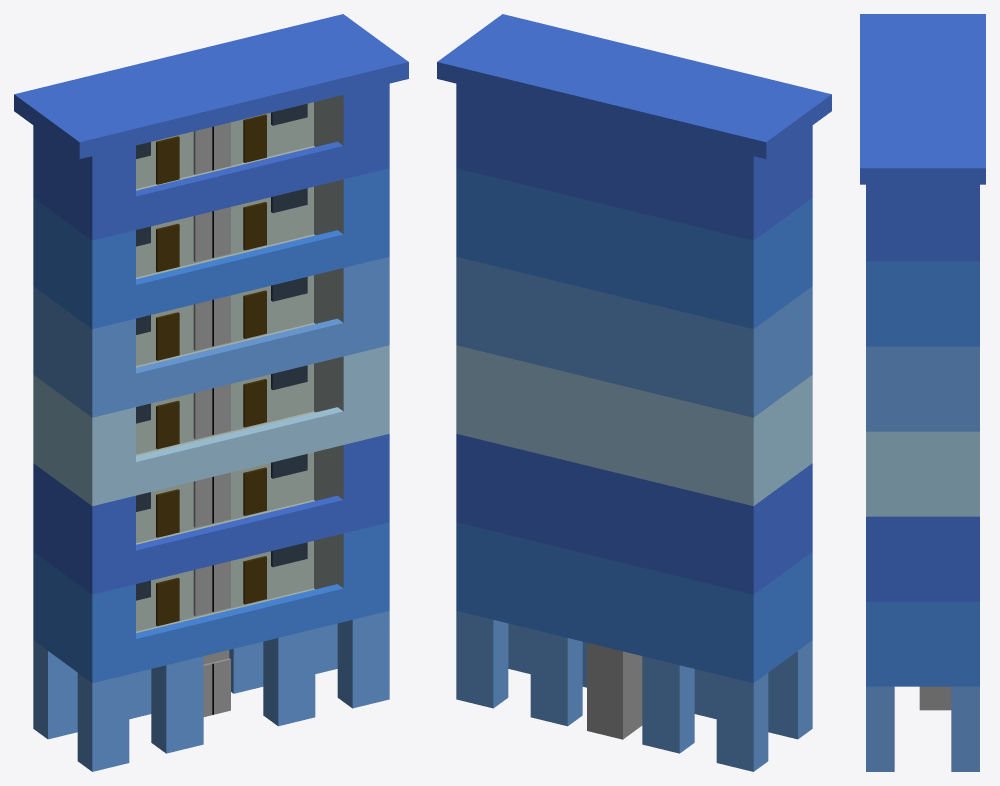
Rendered from HDB_Blue.fbx.
3 renders of one model, left to right at view 1: azimuth 30°, elevation 25°; view 2: azimuth 150°, elevation 25°; view 3: azimuth 270°, elevation 25°, orthographic. The views are drawn at different scales.
Parts seen in each view (by area): view 1: Buidling, Cube.007, Cube.002, Cube.013, Cube.010, Cube.016, Cube.003, Cube.019, Cube.012, Cube, Cube.006, Cube.015 (+8 smaller); view 2: Buidling, Cube.003; view 3: Buidling, Cube.003.
Boxes of the visible parts, x1,y1,x2,y2 form: Buidling: (14, 14, 408, 771); Cube.007: (193, 472, 230, 527); Cube.002: (193, 561, 230, 616); Cube.013: (193, 295, 230, 350); Cube.010: (193, 384, 230, 439); Cube.016: (193, 207, 230, 262); Cube.003: (203, 650, 230, 716); Cube.019: (193, 122, 230, 174); Cube.012: (156, 312, 179, 360); Cube: (243, 556, 266, 604); Cube.006: (156, 489, 179, 537); Cube.015: (156, 223, 179, 272); Buidling: (437, 14, 831, 771); Cube.003: (587, 642, 642, 739); Buidling: (860, 14, 985, 771); Cube.003: (919, 686, 951, 710).
Size of the model in its own units: 6422 by 11854 by 2214.
